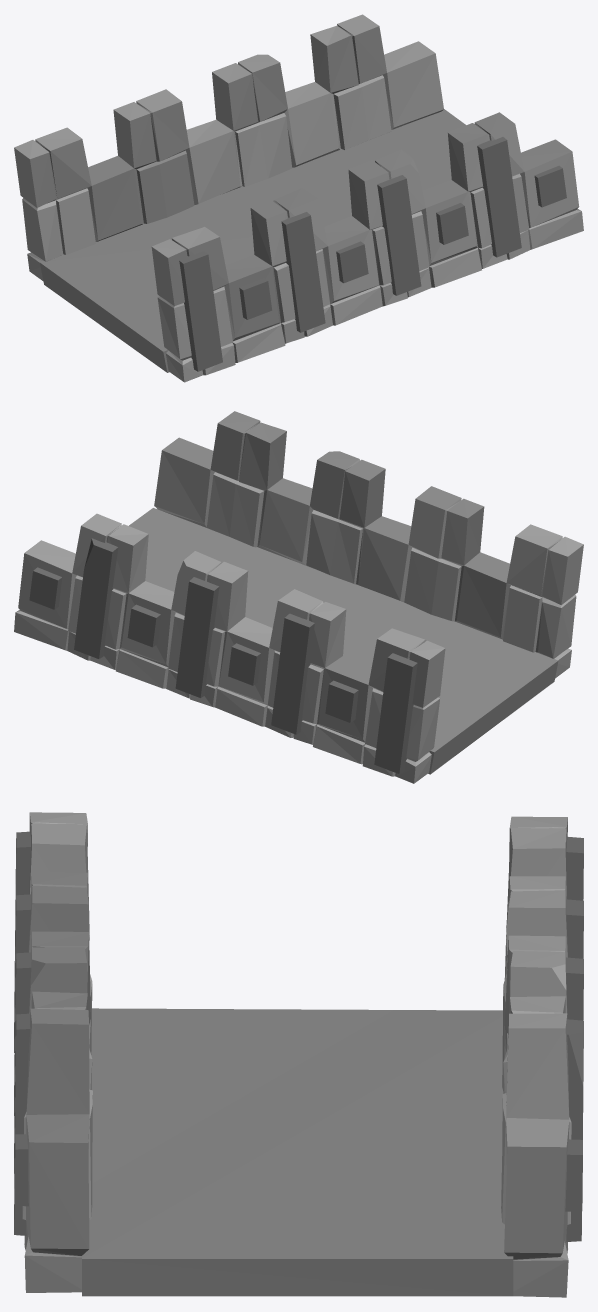
The model's file is BRIDGE_MAIN_01.fbx.
3 views of the same model, one above another, from view 1: azimuth 30°, elevation 25°; view 2: azimuth 150°, elevation 25°; view 3: azimuth 270°, elevation 25° (orthographic). The views are drawn at different scales.
Visible parts, largest first — view 1: BRIDGE_MAIN_01; view 2: BRIDGE_MAIN_01; view 3: BRIDGE_MAIN_01.
Part boxes in pixels (x1=…): BRIDGE_MAIN_01: x1=14, y1=14, x2=583, y2=382; BRIDGE_MAIN_01: x1=14, y1=411, x2=583, y2=783; BRIDGE_MAIN_01: x1=14, y1=812, x2=583, y2=1297.
Size of the model in its own units: 663 by 276 by 452.
